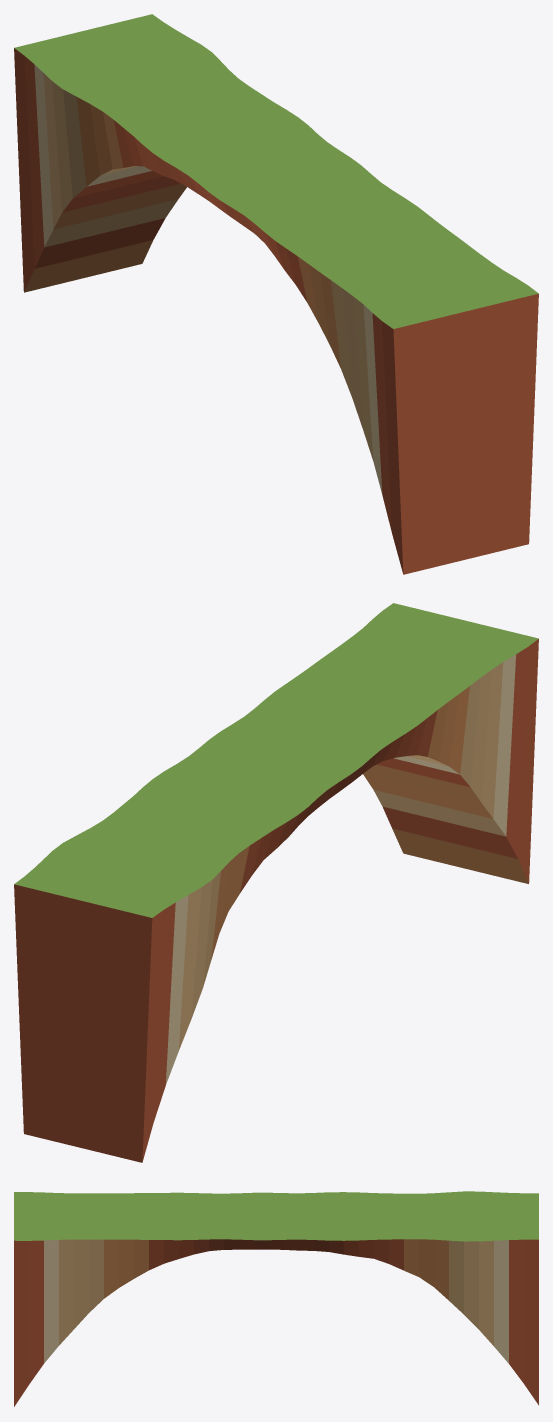
File: ponte_d4.glb
3 renders of one model, top to bottom at view 1: azimuth 30°, elevation 25°; view 2: azimuth 150°, elevation 25°; view 3: azimuth 270°, elevation 25°, orthographic. The views are drawn at different scales.
Parts seen in each view (by area): view 1: ponte_d4; view 2: ponte_d4; view 3: ponte_d4.
Part boxes in pixels (bbox=[...]): ponte_d4: bbox=[14, 14, 538, 574]; ponte_d4: bbox=[14, 603, 538, 1162]; ponte_d4: bbox=[14, 1191, 538, 1406].
Bounding box in the file's own units: 31.76 × 50.28 × 141.
